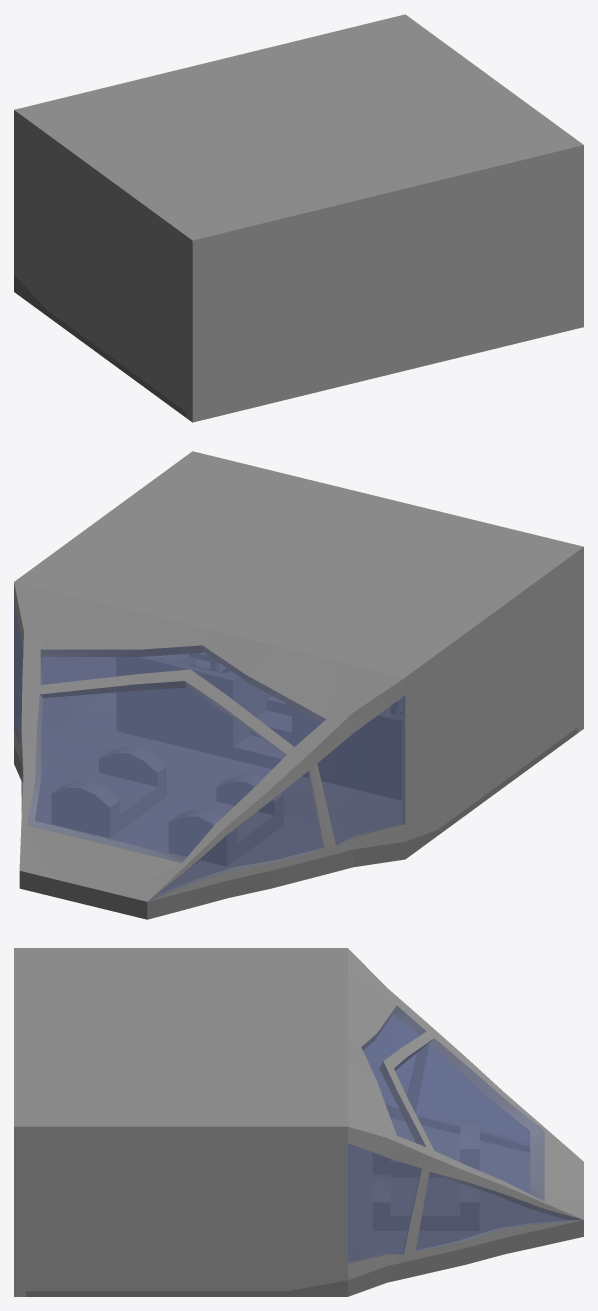
The model's file is Cockpit.fbx.
3 views of the same model, one above another, from view 1: azimuth 30°, elevation 25°; view 2: azimuth 150°, elevation 25°; view 3: azimuth 270°, elevation 25° (orthographic). The views are drawn at different scales.
Parts seen in each view (by area): view 1: Spaceship_geo1; view 2: Spaceship_geo1; view 3: Spaceship_geo1.
Part boxes in pixels (<box>): Spaceship_geo1: <box>14,14,583,422</box>; Spaceship_geo1: <box>14,451,583,919</box>; Spaceship_geo1: <box>14,948,583,1296</box>.
Bounding box in the file's own units: 7.68 × 3.42 × 10.36.
